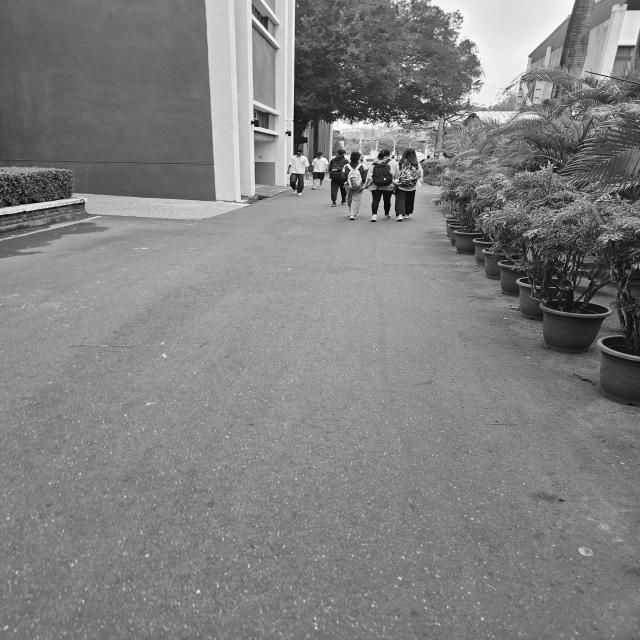Road-Object: (0, 186, 640, 640)
people: (362, 144, 400, 223), (393, 145, 426, 222), (337, 151, 369, 222), (327, 147, 351, 208), (285, 148, 312, 198), (309, 151, 331, 191)
